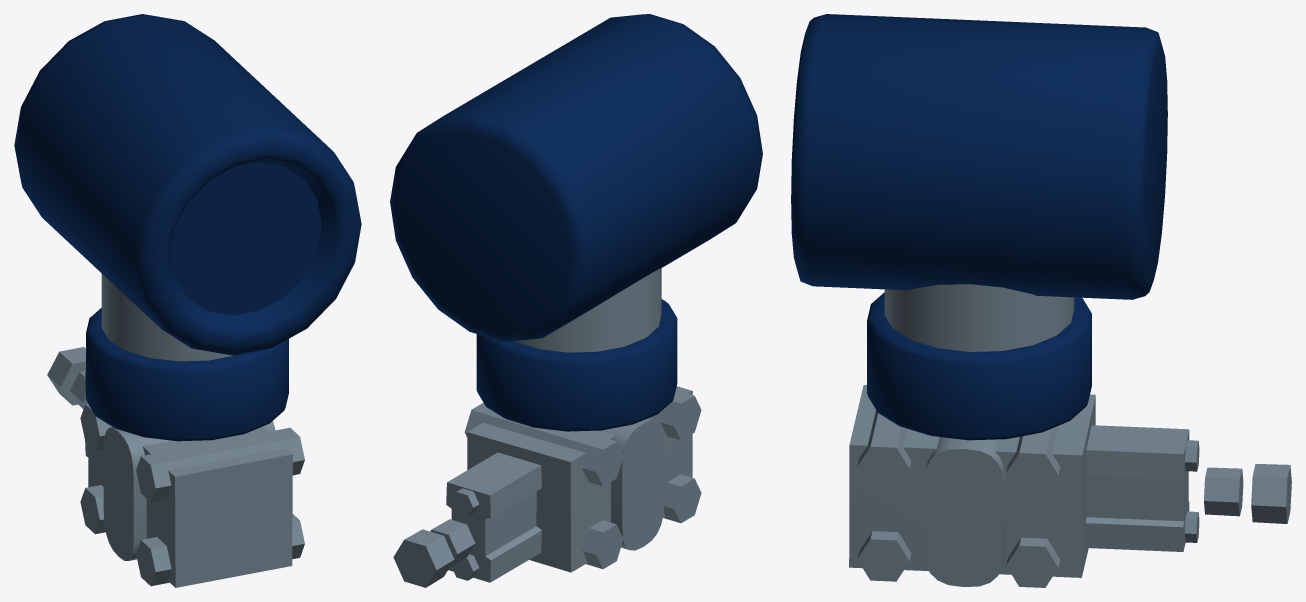
The model's file is 变送器总成.fbx.
The picture shows the model from 3 angles, left to right: view 1: azimuth 30°, elevation 25°; view 2: azimuth 150°, elevation 25°; view 3: azimuth 270°, elevation 25°; orthographic projection. The views are drawn at different scales.
Visible parts, largest first — view 1: 变送器_电子外壳, 变送器_连接块, 变送器_下壳盖, 变送器_过程接口, 变送器总成_连接件_45, 变送器_连接座, 变送器总成_连接件_36, 变送器总成_连接件_32, 变送器总成_连接件_37, 变送器总成_连接件_46; view 2: 变送器_电子外壳, 变送器_下壳盖, 变送器_连接块, 变送器总成_连接件_29, 变送器_过程接口, 变送器_连接座, 变送器总成_连接件_46, 变送器总成_连接件_32, 变送器总成_连接件_37, 变送器总成_连接件_36, 变送器总成_连接件_45, 变送器总成_连接件_33 (+1 smaller); view 3: 变送器_电子外壳, 变送器_下壳盖, 变送器_连接块, 变送器总成_连接件_29, 变送器_过程接口, 变送器_连接座, 变送器总成_连接件_45, 变送器总成_连接件_46, 变送器总成_连接件_32, 变送器总成_连接件_36, 变送器总成_连接件_37, 变送器总成_连接件_33.
Part boxes in pixels (x1,y1,x2,y2): 变送器_电子外壳: (14, 14, 361, 355); 变送器_连接块: (88, 426, 292, 587); 变送器_下壳盖: (86, 308, 288, 441); 变送器_过程接口: (103, 421, 275, 560); 变送器总成_连接件_45: (136, 427, 304, 502); 变送器_连接座: (101, 274, 234, 361); 变送器总成_连接件_36: (136, 514, 304, 586); 变送器总成_连接件_32: (47, 347, 85, 405); 变送器总成_连接件_37: (80, 485, 105, 534); 变送器总成_连接件_46: (80, 403, 111, 450); 变送器_电子外壳: (390, 14, 762, 341); 变送器_下壳盖: (476, 299, 677, 431); 变送器_连接块: (467, 386, 692, 572); 变送器总成_连接件_29: (446, 452, 541, 582); 变送器_过程接口: (601, 418, 664, 550); 变送器_连接座: (515, 268, 661, 352); 变送器总成_连接件_46: (464, 403, 623, 486); 变送器总成_连接件_32: (393, 529, 454, 587); 变送器总成_连接件_37: (582, 520, 623, 568); 变送器总成_连接件_36: (663, 474, 701, 523); 变送器总成_连接件_45: (660, 390, 701, 440); 变送器总成_连接件_33: (430, 519, 475, 567); 变送器_电子外壳: (791, 14, 1167, 299); 变送器_下壳盖: (867, 292, 1091, 440); 变送器_连接块: (849, 385, 1095, 577); 变送器总成_连接件_29: (1086, 425, 1189, 551); 变送器_过程接口: (924, 437, 1005, 586); 变送器_连接座: (884, 284, 1074, 351); 变送器总成_连接件_45: (857, 410, 911, 488); 变送器总成_连接件_46: (1006, 426, 1060, 495); 变送器总成_连接件_32: (1251, 464, 1291, 523); 变送器总成_连接件_36: (857, 531, 911, 581); 变送器总成_连接件_37: (1006, 537, 1060, 587); 变送器总成_连接件_33: (1204, 467, 1243, 516).
Size of the model in its own units: 0.0474 by 0.0887 by 0.078.
